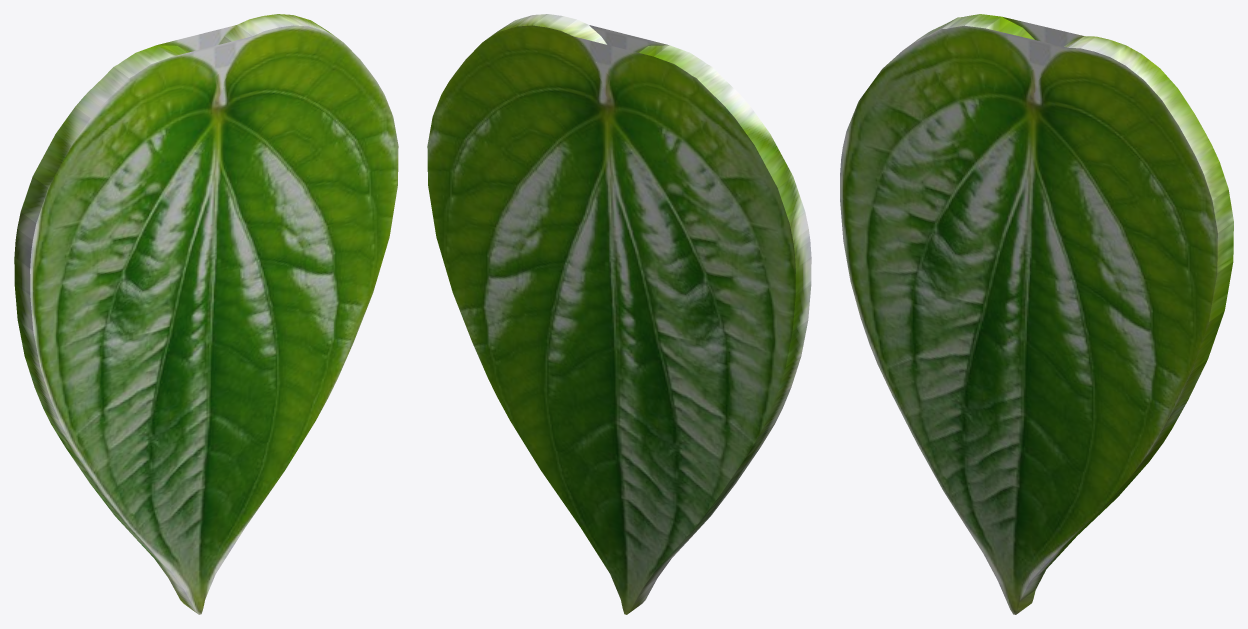
File: Daun_Sirih.fbx
3 renders of one model, left to right at view 1: azimuth 30°, elevation 25°; view 2: azimuth 150°, elevation 25°; view 3: azimuth 330°, elevation 25°, orthographic. The views are drawn at different scales.
Parts seen in each view (by area): view 1: Trace; view 2: Trace; view 3: Trace.
Boxes of the visible parts, x1,y1,x2,y2 form: Trace: (14,14,398,614); Trace: (427,14,811,614); Trace: (840,14,1233,614).
Size of the model in its own units: 538 by 792 by 39.64.
1 material, 1 textured.
